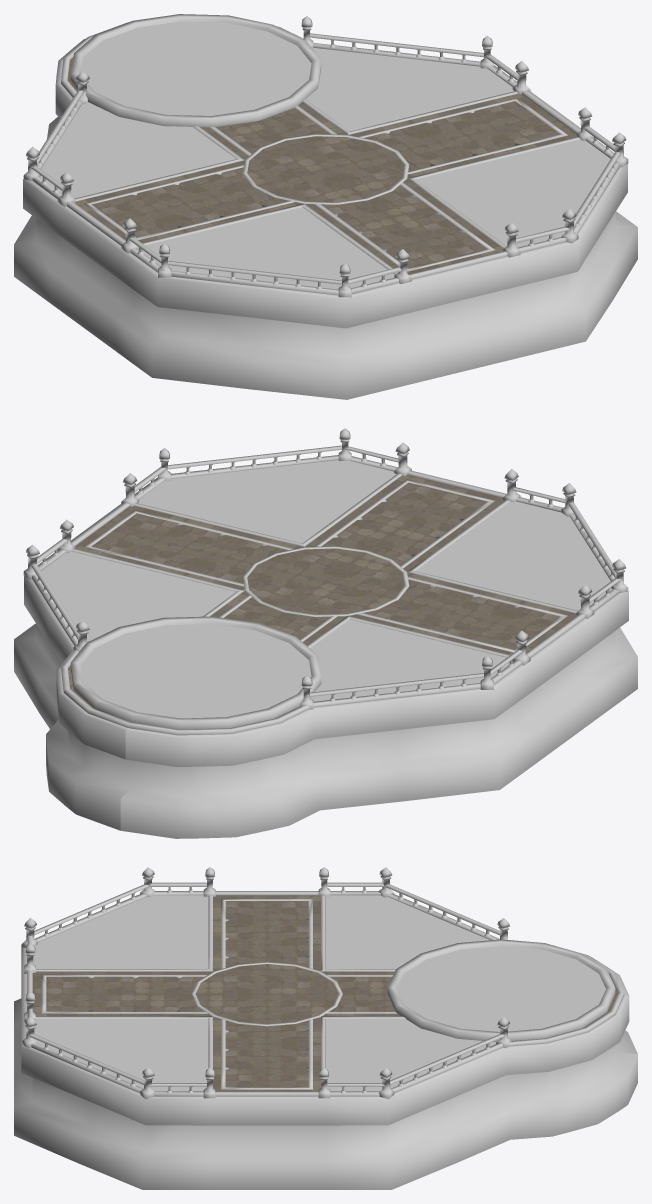
The model's file is t_pngtai10.FBX.
3 views of the same model, one above another, from view 1: azimuth 30°, elevation 25°; view 2: azimuth 150°, elevation 25°; view 3: azimuth 270°, elevation 25° (orthographic). The views are drawn at different scales.
Parts seen in each view (by area): view 1: t_pngtai10_qiang, t_pngtai10_dimian02, t_pngtai10_dimian01, t_pngtai10_shuimian; view 2: t_pngtai10_qiang, t_pngtai10_dimian02, t_pngtai10_dimian01, t_pngtai10_shuimian; view 3: t_pngtai10_qiang, t_pngtai10_dimian02, t_pngtai10_dimian01, t_pngtai10_shuimian.
Part boxes in pixels (x1,y1,x2,y2): t_pngtai10_qiang: (14,14,637,399); t_pngtai10_dimian02: (39,47,610,289); t_pngtai10_dimian01: (67,58,576,274); t_pngtai10_shuimian: (81,21,311,115); t_pngtai10_qiang: (14,428,637,838); t_pngtai10_dimian02: (41,460,612,701); t_pngtai10_dimian01: (68,475,576,718); t_pngtai10_shuimian: (80,624,311,718); t_pngtai10_qiang: (14,867,637,1189); t_pngtai10_dimian02: (33,895,496,1091); t_pngtai10_dimian01: (32,895,617,1091); t_pngtai10_shuimian: (397,946,605,1031).
Size of the model in its own units: 5214 by 1319 by 6431.
